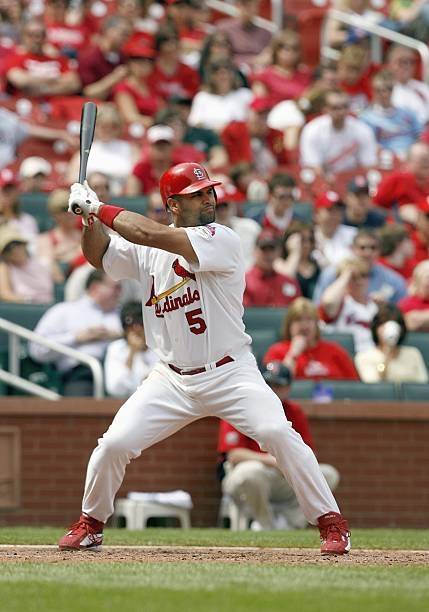bita: (73, 100, 105, 197)
